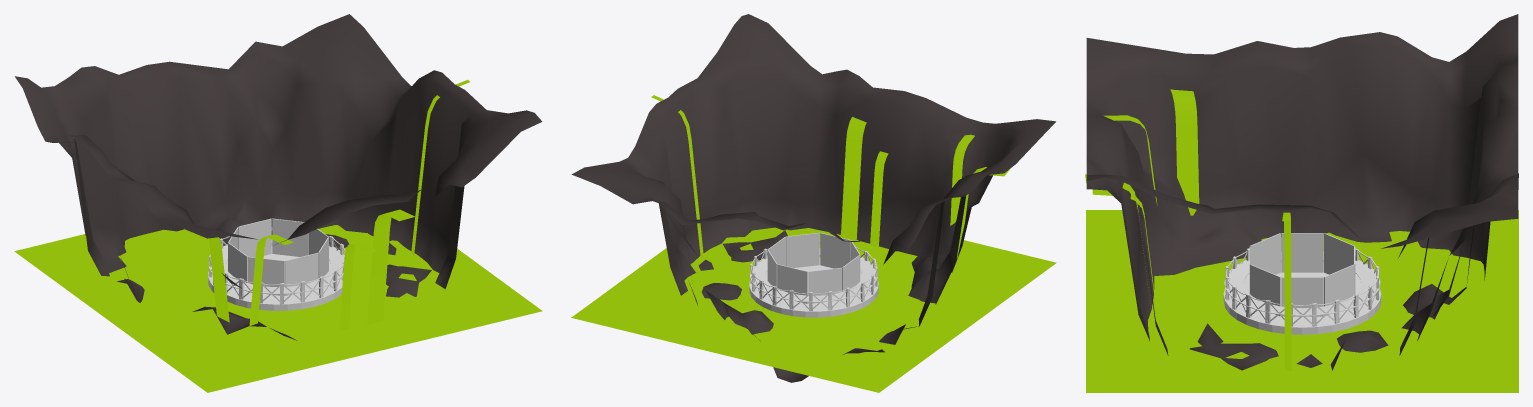
File: mire_landscape.glb
3 renders of one model, left to right at view 1: azimuth 30°, elevation 25°; view 2: azimuth 150°, elevation 25°; view 3: azimuth 270°, elevation 25°, orthographic. The views are drawn at different scales.
Parts seen in each view (by area): view 1: Cliffs, Ocean, Waterfall.002, PlatformPiece.005, Cube.002, PlatformPiece.001, Waterfall.004, Boundary-colonly.008, Waterfall, Boundary-colonly.001, Boundary-colonly.005, Waterfall.003 (+3 smaller); view 2: Cliffs, Ocean, Waterfall.002, PlatformPiece.005, Cube.002, PlatformPiece.001, Boundary-colonly.006, Boundary-colonly.005, Waterfall, Boundary-colonly.002, Boundary-colonly.001, Waterfall.003 (+2 smaller); view 3: Cliffs, Ocean, PlatformPiece.005, Waterfall.004, Cube.002, PlatformPiece.001, Boundary-colonly.003, Waterfall.001, Boundary-colonly.007, Boundary-colonly.006, Boundary-colonly.004, Boundary-colonly.008 (+1 smaller).
Boxes of the visible parts, box(x1,y1,x2,y2) form: Cliffs: box(14, 14, 542, 340); Ocean: box(14, 225, 542, 392); Waterfall.002: box(367, 209, 415, 325); PlatformPiece.005: box(208, 245, 342, 310); Cube.002: box(209, 227, 345, 304); PlatformPiece.001: box(208, 240, 344, 294); Waterfall.004: box(174, 229, 229, 322); Boundary-colonly.008: box(272, 218, 308, 256); Waterfall: box(339, 242, 376, 330); Boundary-colonly.001: box(238, 218, 271, 257); Boundary-colonly.005: box(285, 253, 318, 295); Waterfall.003: box(249, 234, 293, 326); Cliffs: box(571, 14, 1055, 382); Ocean: box(571, 227, 1056, 392); Waterfall.002: box(841, 117, 866, 239); PlatformPiece.005: box(749, 257, 878, 317); Cube.002: box(750, 240, 877, 311); PlatformPiece.001: box(750, 248, 877, 302); Boundary-colonly.006: box(786, 232, 819, 267); Boundary-colonly.005: box(820, 233, 850, 268); Waterfall: box(870, 151, 888, 246); Boundary-colonly.002: box(808, 267, 841, 303); Boundary-colonly.001: box(777, 264, 807, 303); Waterfall.003: box(950, 134, 974, 225); Cliffs: box(1086, 14, 1518, 370); Ocean: box(1086, 210, 1518, 392); PlatformPiece.005: box(1223, 262, 1381, 334); Waterfall.004: box(1170, 89, 1199, 215); Cube.002: box(1225, 242, 1379, 326); PlatformPiece.001: box(1224, 251, 1380, 316); Boundary-colonly.003: box(1281, 233, 1323, 272); Waterfall.001: box(1282, 212, 1291, 371); Boundary-colonly.007: box(1281, 277, 1323, 316); Boundary-colonly.006: box(1250, 264, 1280, 316); Boundary-colonly.004: box(1250, 233, 1280, 274); Boundary-colonly.008: box(1324, 264, 1354, 315).
Size of what is drawn, in the model's own units: 36.64 by 23.5 by 35.08.
